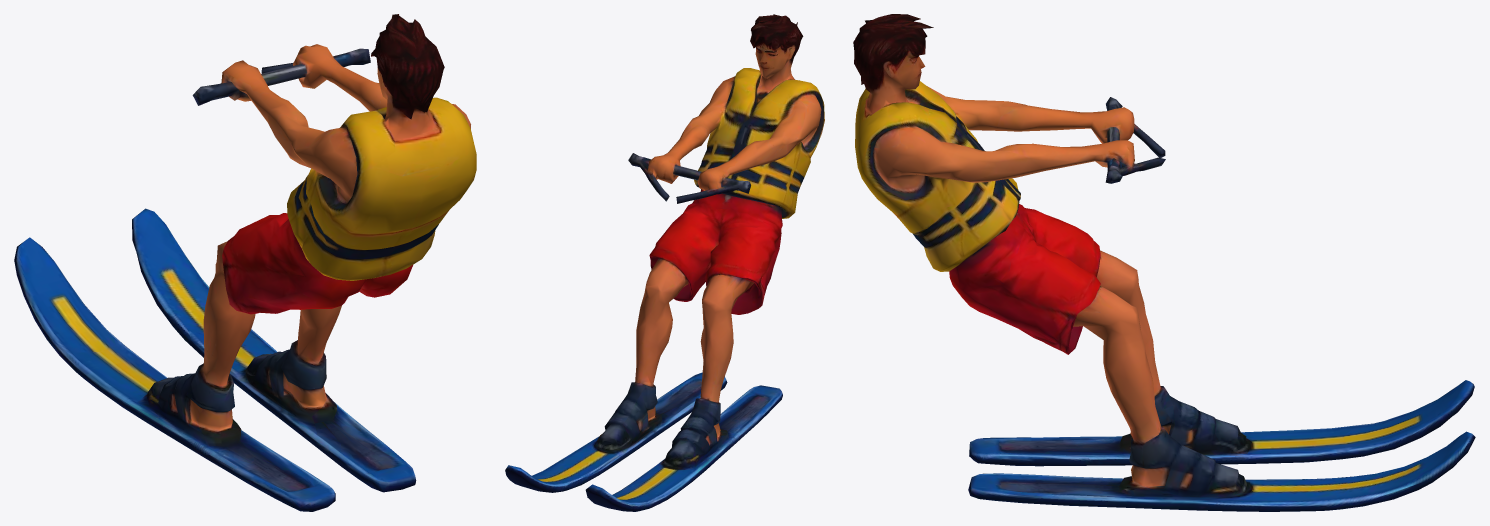
Rendered from skier.glb.
3 renders of one model, left to right at view 1: azimuth 30°, elevation 25°; view 2: azimuth 150°, elevation 25°; view 3: azimuth 270°, elevation 25°, orthographic. The views are drawn at different scales.
Visible parts, largest first — view 1: tripo_node_d57f6300-6a98-47a1-bb4f-22aef1395874; view 2: tripo_node_d57f6300-6a98-47a1-bb4f-22aef1395874; view 3: tripo_node_d57f6300-6a98-47a1-bb4f-22aef1395874.
Part boxes in pixels (bbox=[...]): tripo_node_d57f6300-6a98-47a1-bb4f-22aef1395874: bbox=[14, 14, 476, 511]; tripo_node_d57f6300-6a98-47a1-bb4f-22aef1395874: bbox=[505, 14, 824, 511]; tripo_node_d57f6300-6a98-47a1-bb4f-22aef1395874: bbox=[853, 14, 1475, 511].
Size of the model in its own units: 0.287 by 0.8212 by 0.9997.
Materials: 1 (1 with a texture image).
